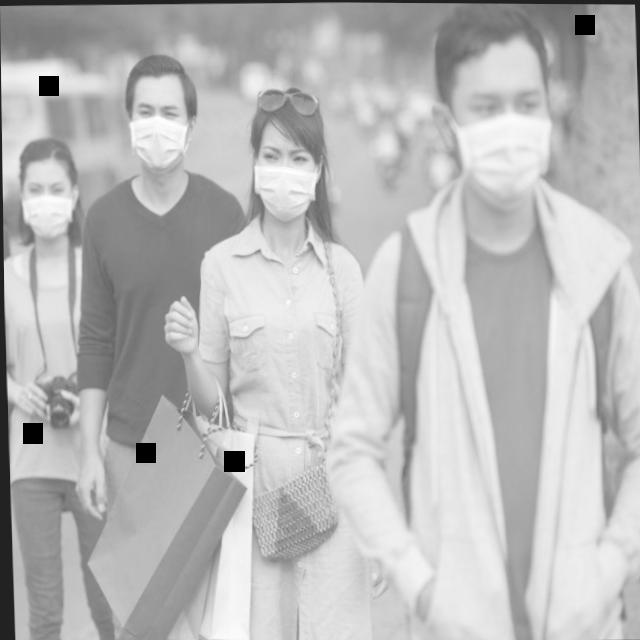Mask: (428, 2, 562, 209), (242, 77, 339, 230), (118, 49, 208, 181), (4, 133, 84, 236)
